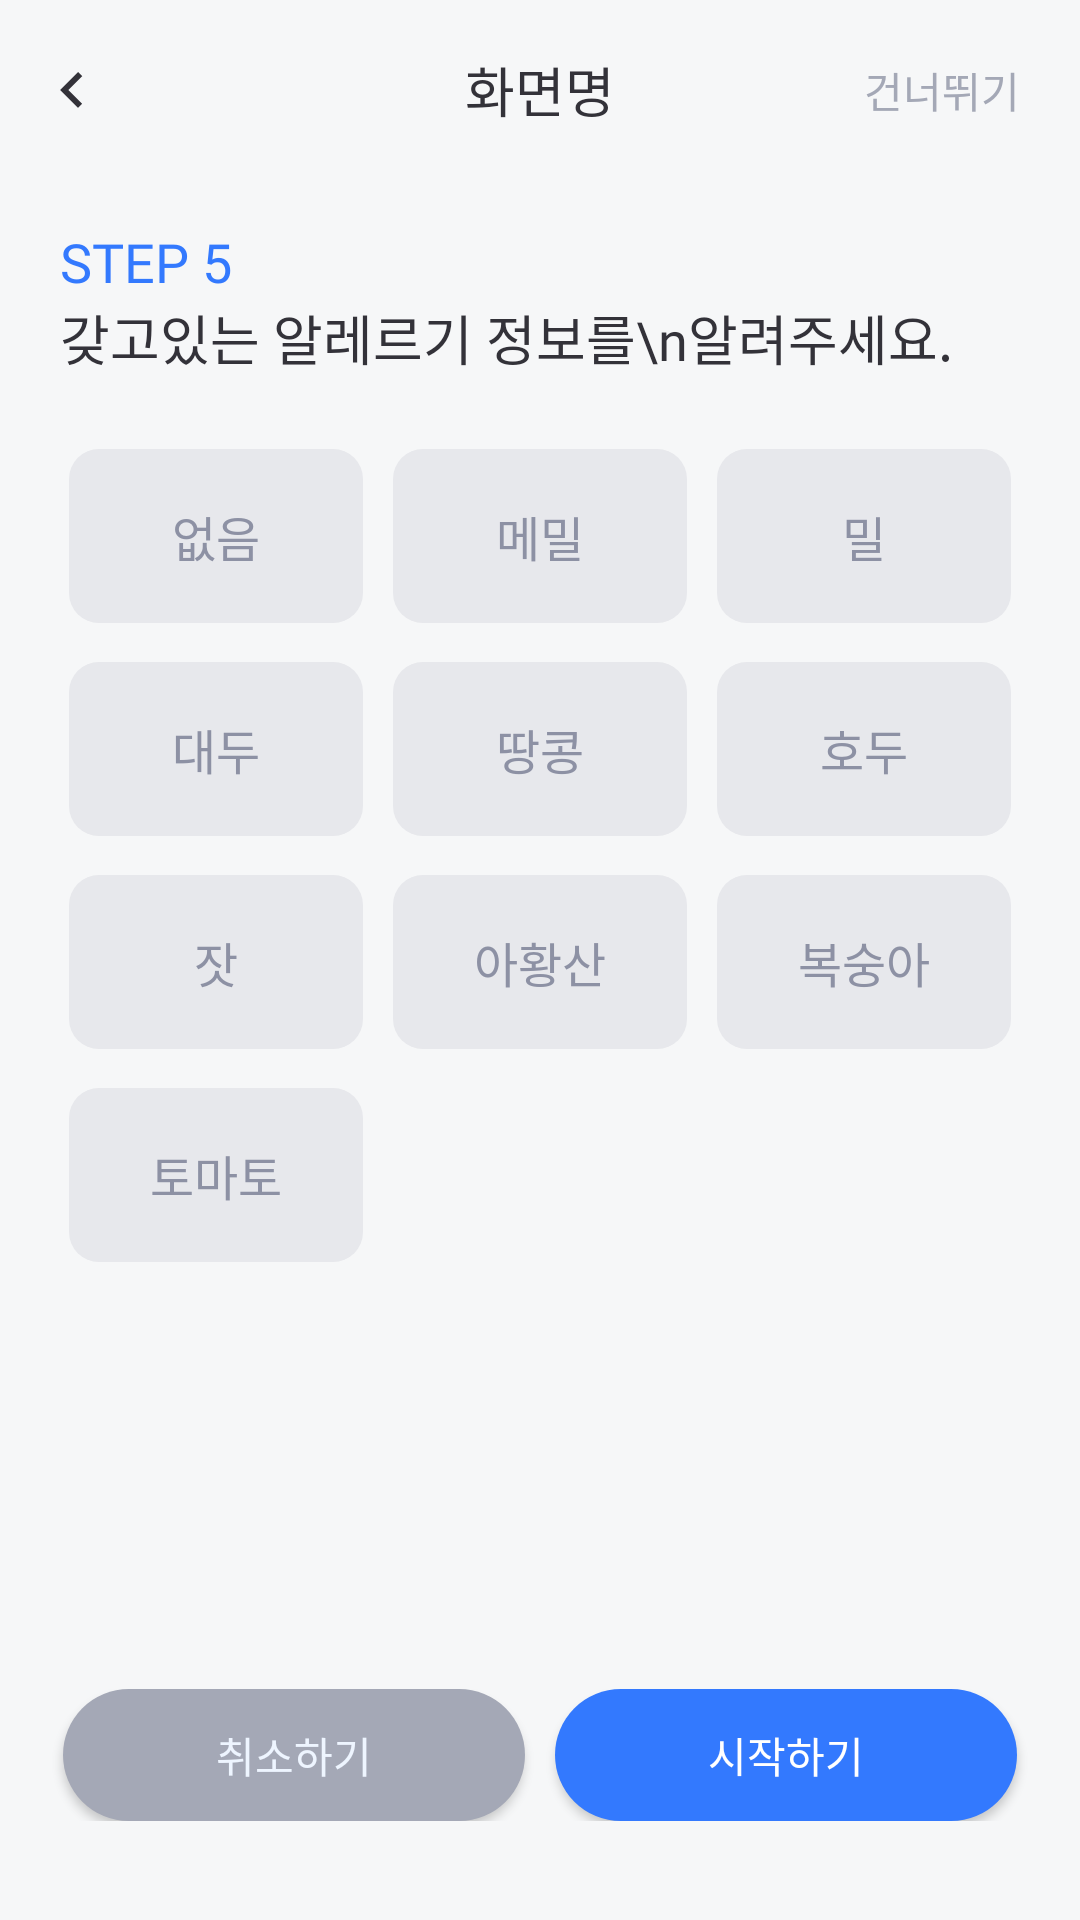

Point at icon controls on the screen. Image size 1080x1920, points as (x=x, y=y).
뒤로가기: (x=71, y=90)
